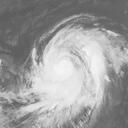cyclone: (21, 16, 108, 122)
